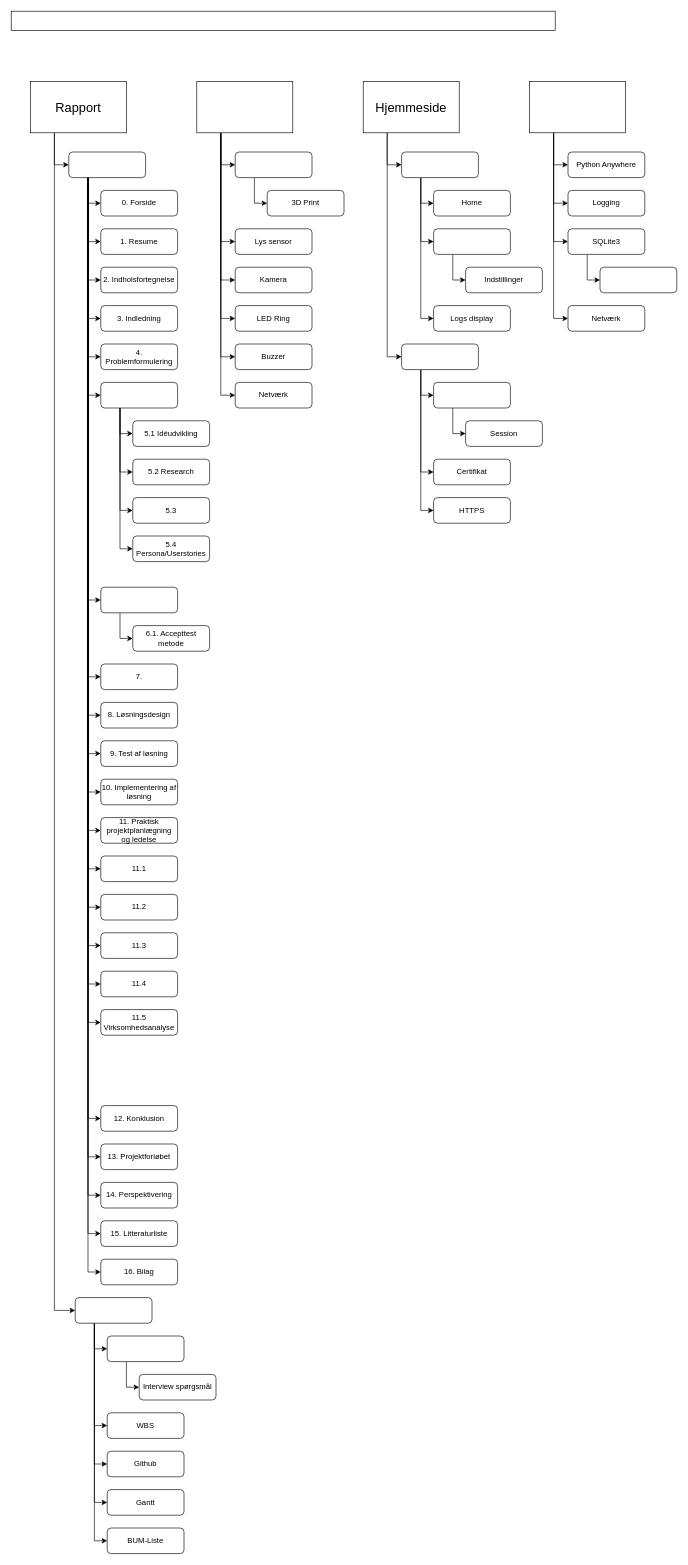
This 688x1565 diagram has some shape labels left out. The box of each missing label's shape, as (x1, y1, x2, y2) in pixels:
5. Indl. undersøgelser: (100, 382, 178, 408)
6. Kravspecifikation: (100, 587, 178, 613)
Andet: (75, 1297, 152, 1323)
Database: (599, 267, 677, 293)
Enhed: (196, 81, 293, 133)
Interview: (107, 1335, 184, 1362)
Login: (433, 382, 510, 408)
Model: (235, 151, 312, 178)
Monitor: (433, 228, 510, 254)
Sektioner: (68, 151, 146, 178)
Server/Bottle: (529, 81, 626, 133)
Sider: (401, 151, 478, 178)
Sikkerhed: (401, 343, 478, 370)
WBS - Karius & Baktus - 2023: (11, 11, 555, 30)
